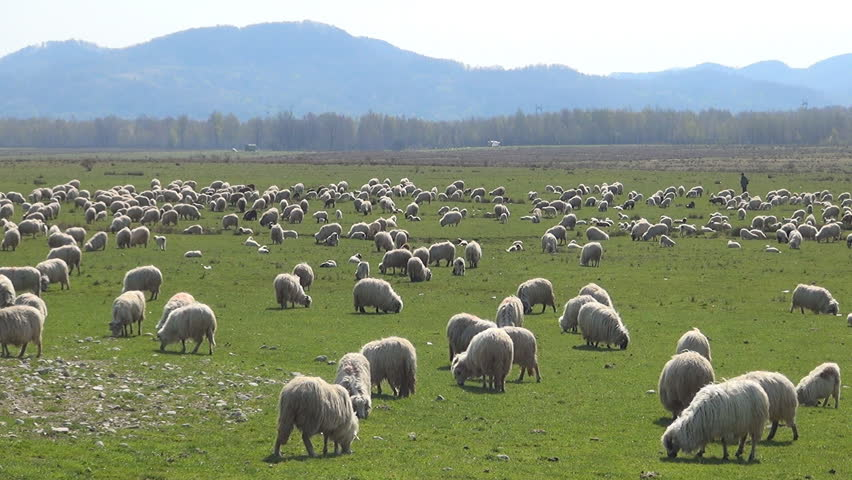sheep: (658, 379, 774, 466), (274, 373, 360, 462), (448, 327, 513, 394), (361, 333, 421, 396), (156, 301, 218, 356), (576, 301, 633, 352), (1, 302, 46, 359), (107, 286, 148, 340), (351, 277, 403, 315), (788, 281, 841, 317), (273, 270, 314, 310), (518, 275, 557, 317), (120, 263, 165, 299), (33, 258, 71, 292), (380, 247, 411, 276), (49, 244, 80, 271), (578, 240, 605, 269), (813, 221, 844, 243), (129, 222, 150, 251), (405, 257, 430, 281), (1, 227, 24, 252), (589, 222, 611, 246), (110, 225, 135, 246), (641, 223, 673, 239), (436, 210, 464, 228), (257, 206, 280, 227), (313, 223, 343, 239), (82, 234, 107, 250), (630, 218, 649, 239), (539, 234, 559, 253), (179, 204, 201, 221), (159, 207, 178, 226), (221, 213, 241, 230), (402, 202, 420, 217), (679, 223, 697, 238), (286, 207, 303, 222), (488, 186, 507, 197), (684, 189, 698, 199)
